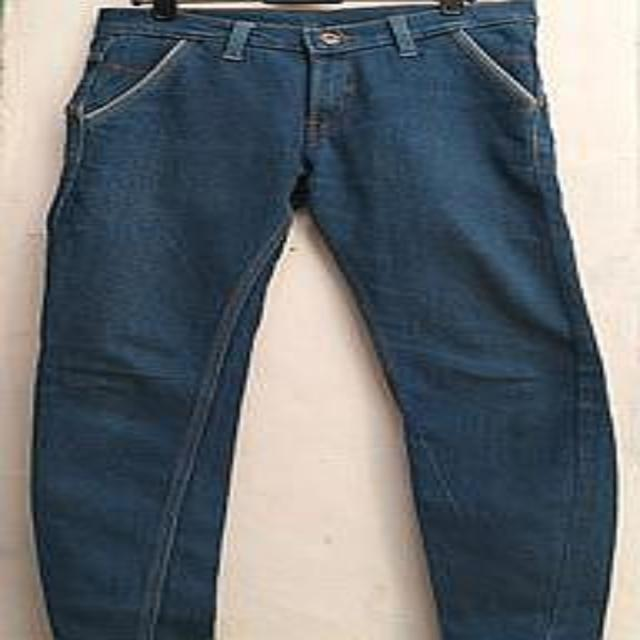TROUSER: (18, 2, 630, 640)
